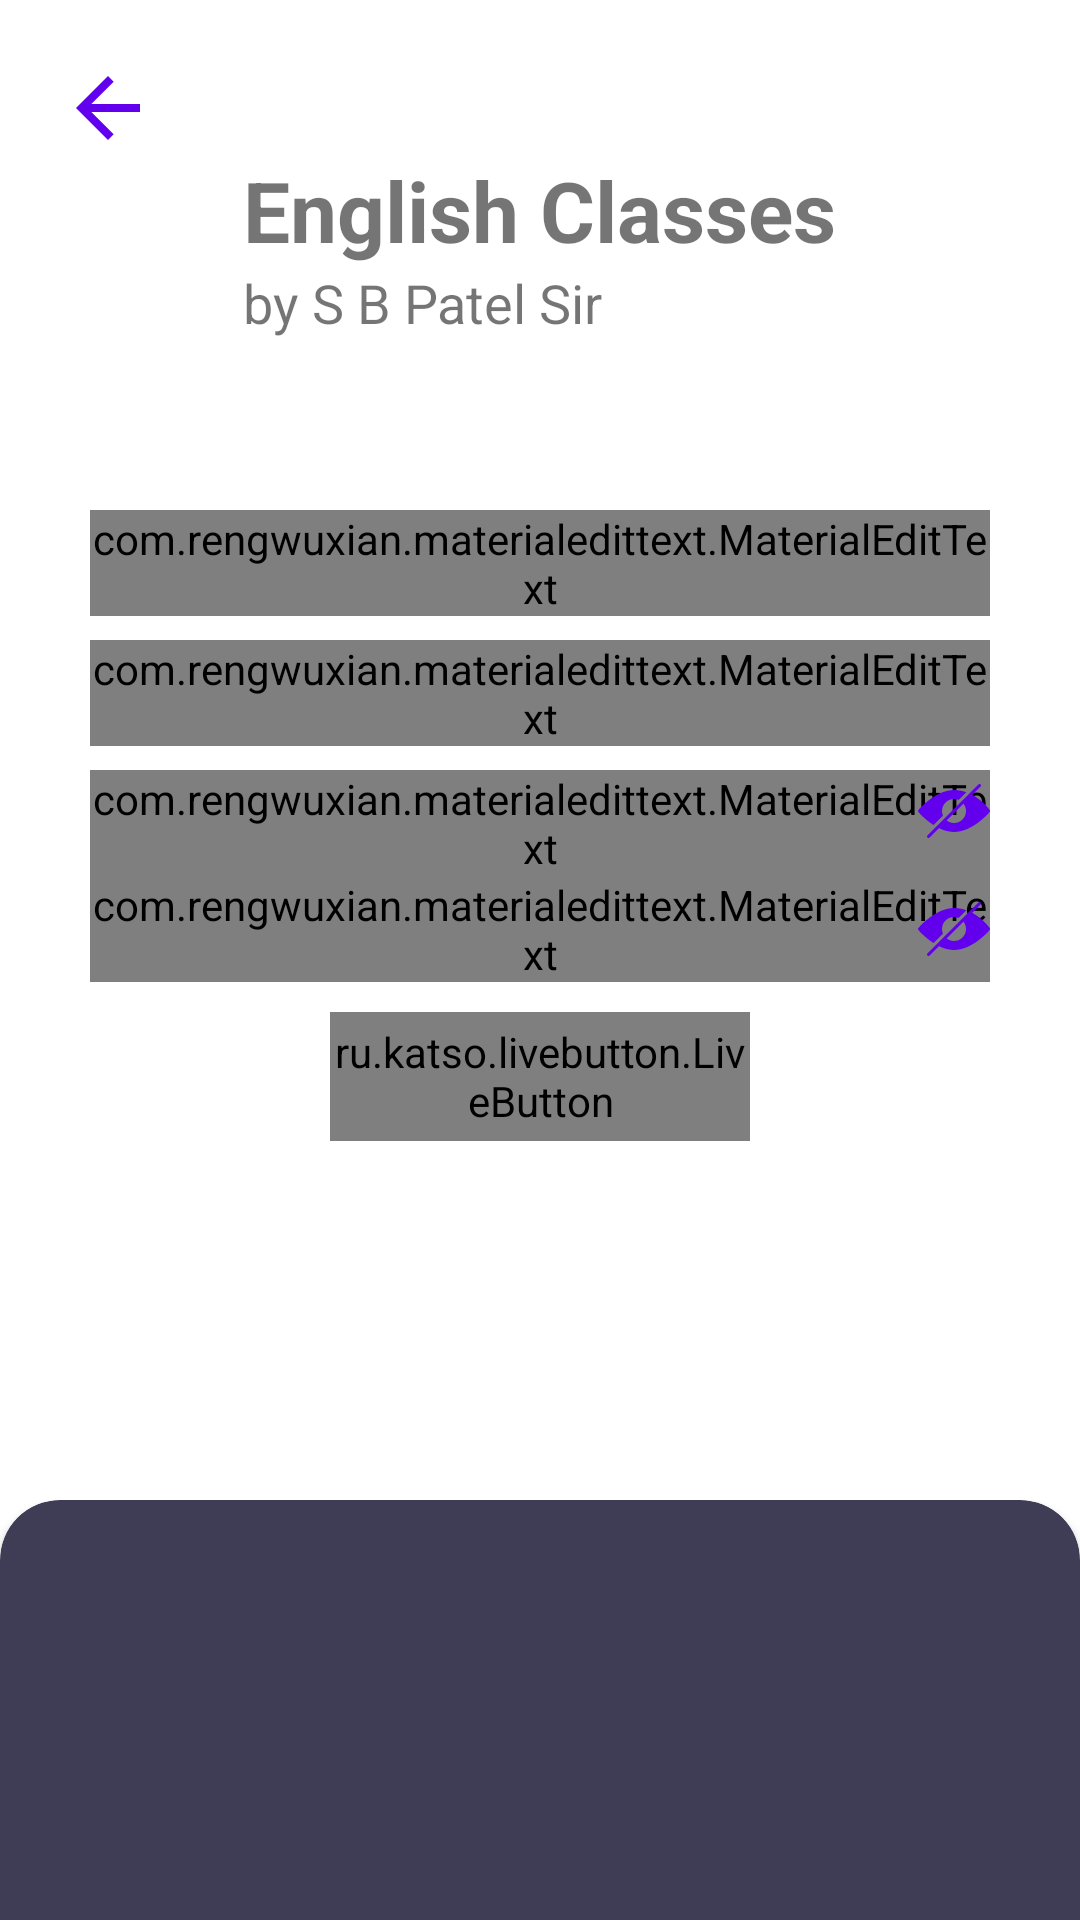

Locate icon controls on the screen. Image size 1080 x 1920, boxes as region(x1, y1, x2, y2).
back arrow: region(76, 76, 140, 140)
hide: region(918, 784, 990, 838), region(918, 893, 990, 956)
